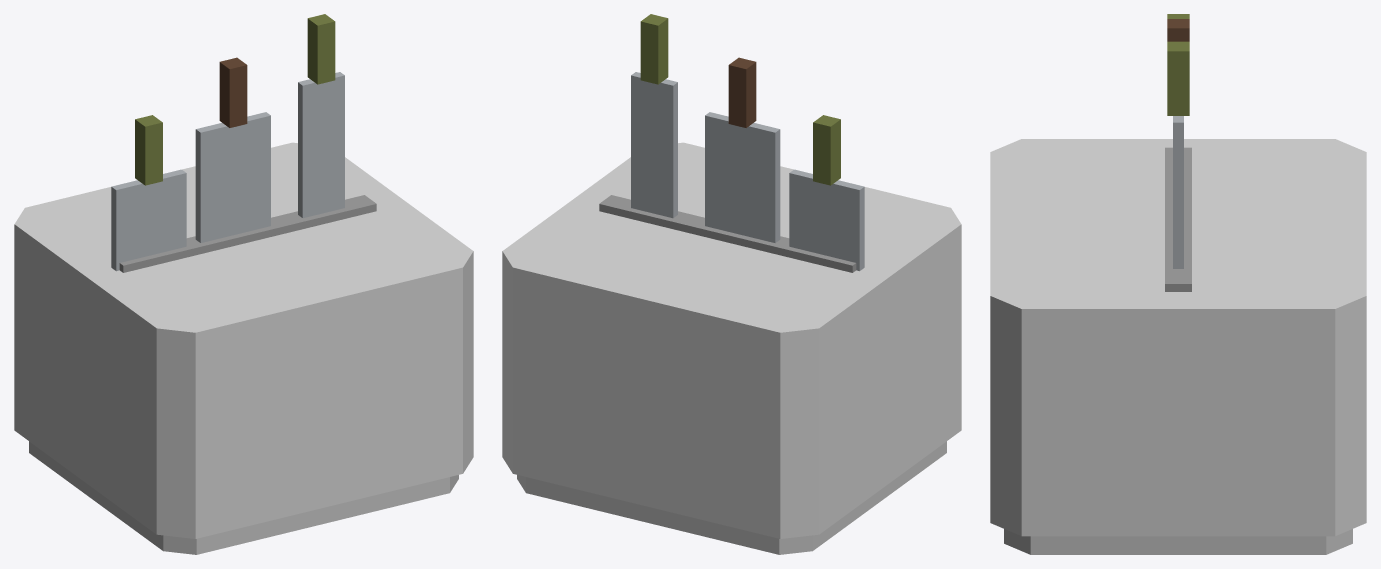
The model's file is vfem2_cleaver_rack.obj.
3 renders of one model, left to right at view 1: azimuth 30°, elevation 25°; view 2: azimuth 150°, elevation 25°; view 3: azimuth 270°, elevation 25°, orthographic. The views are drawn at different scales.
Visible parts, largest first — view 1: vfem2_cleaver_rack; view 2: vfem2_cleaver_rack; view 3: vfem2_cleaver_rack.
Part boxes in pixels (x1,y1,x2,y2): vfem2_cleaver_rack: (14, 14, 473, 554); vfem2_cleaver_rack: (502, 14, 961, 554); vfem2_cleaver_rack: (990, 14, 1366, 554).
Bounding box in the file's own units: 0.9 × 1.16 × 0.84.
